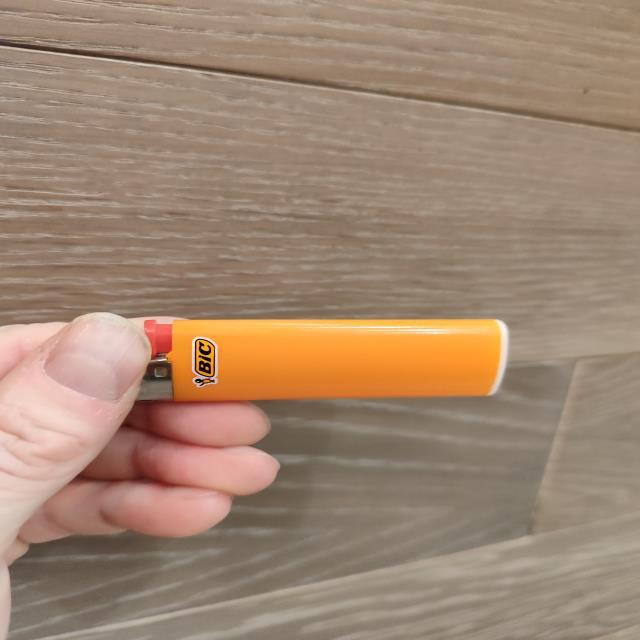lighter: (142, 319, 508, 401)
